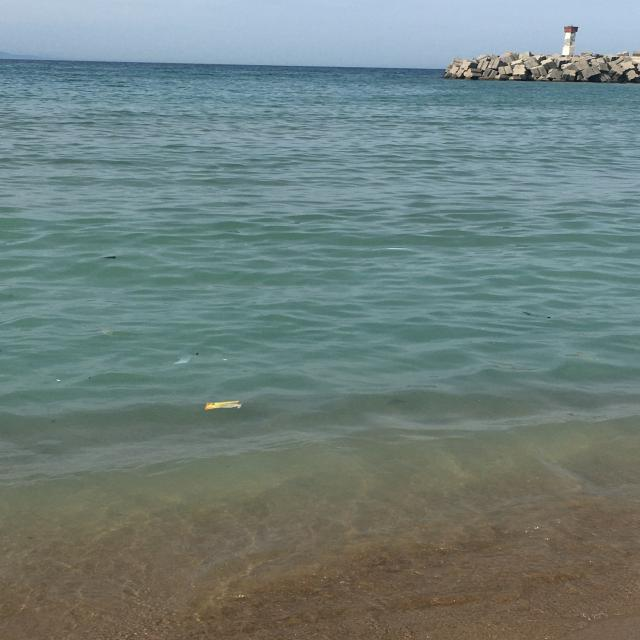Plastic: (521, 311, 553, 319), (172, 353, 193, 365)
Plastic packaging: (204, 400, 243, 412)
